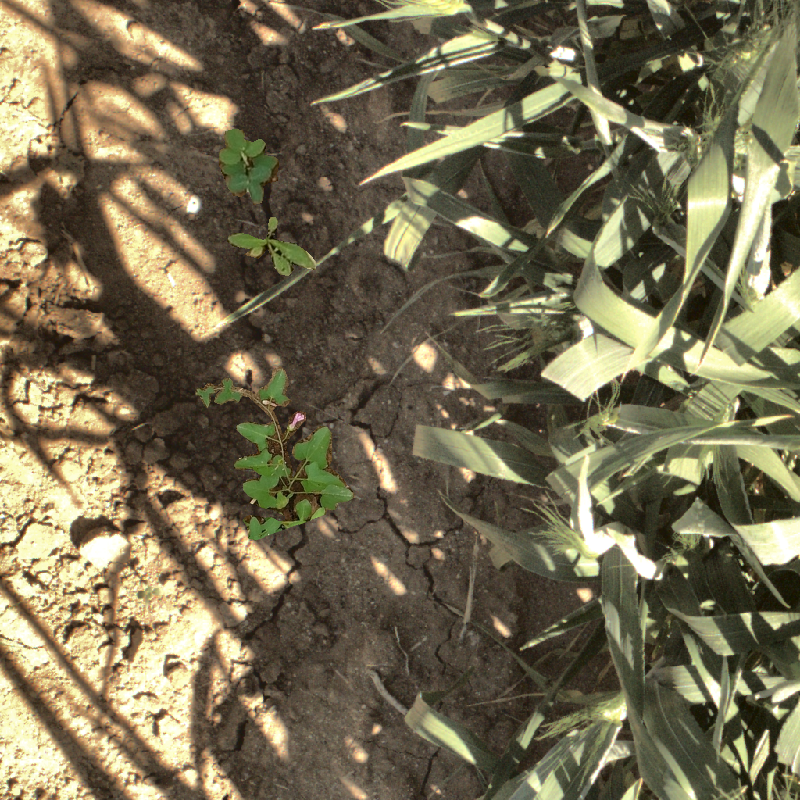spikelet: (550, 501, 615, 562), (575, 685, 634, 729)
weed: (192, 349, 358, 543), (227, 217, 316, 276), (219, 130, 279, 206)
